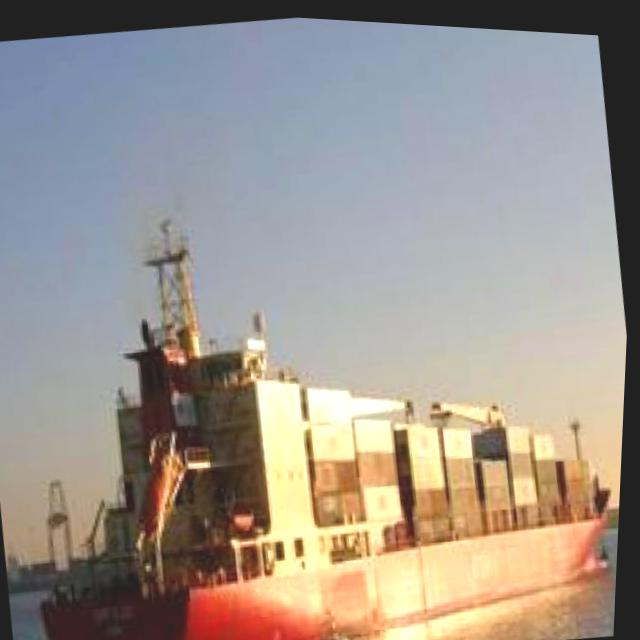ship2: (45, 217, 617, 640)
